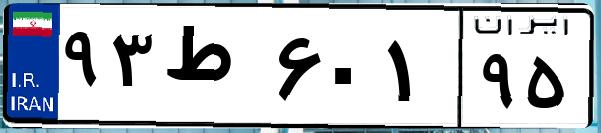0: (330, 28, 385, 110)
1: (385, 28, 445, 110)
3: (110, 28, 158, 98)
5: (525, 38, 570, 115)
6: (270, 28, 330, 110)
9: (57, 26, 110, 100), (475, 38, 525, 113)
ط: (158, 20, 270, 120)
